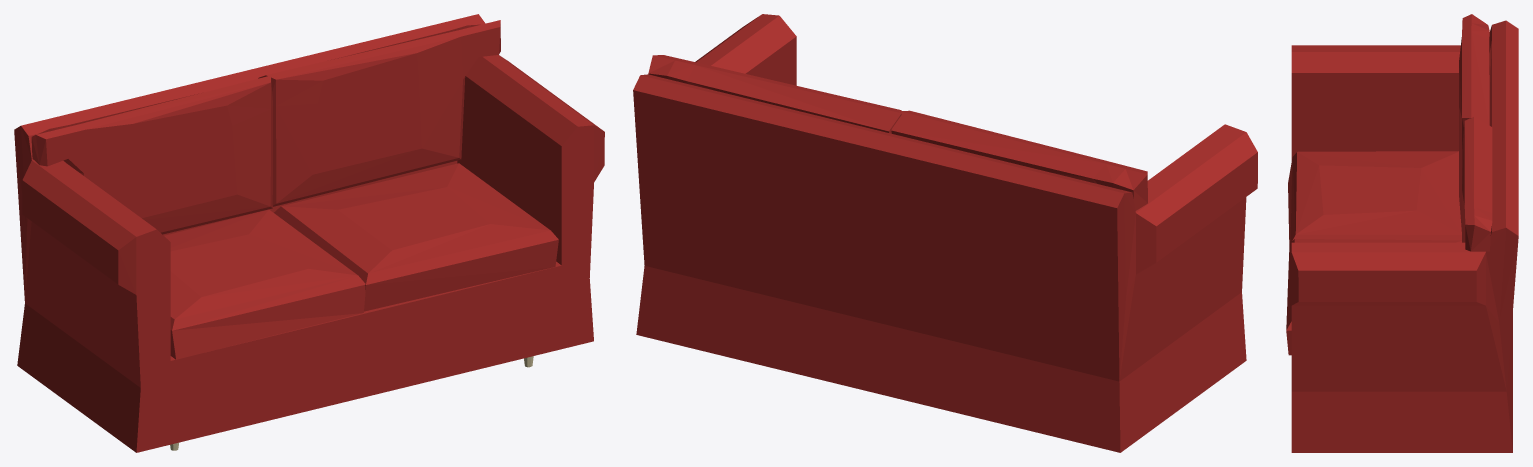
File: IKEA_sofa_EKTORP.dae
3 views of the same model, side by side, from view 1: azimuth 30°, elevation 25°; view 2: azimuth 150°, elevation 25°; view 3: azimuth 270°, elevation 25° (orthographic). The views are drawn at different scales.
Visible parts, largest first — view 1: IKEA_sofa_EKTORP; view 2: IKEA_sofa_EKTORP; view 3: IKEA_sofa_EKTORP.
Boxes of the visible parts, x1,y1,x2,y2 form: IKEA_sofa_EKTORP: (14, 14, 604, 452); IKEA_sofa_EKTORP: (633, 14, 1257, 452); IKEA_sofa_EKTORP: (1286, 14, 1518, 452).
Size of the model in its own units: 1.79 by 0.7982 by 0.951.
